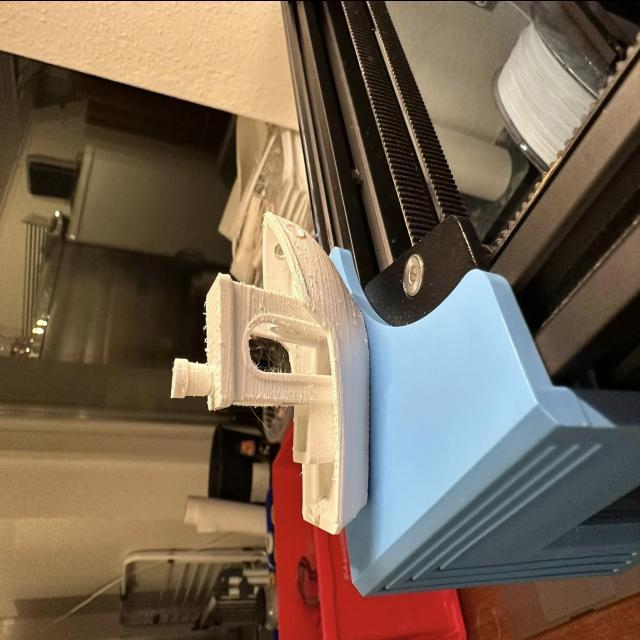stringing: (254, 339, 312, 376)
